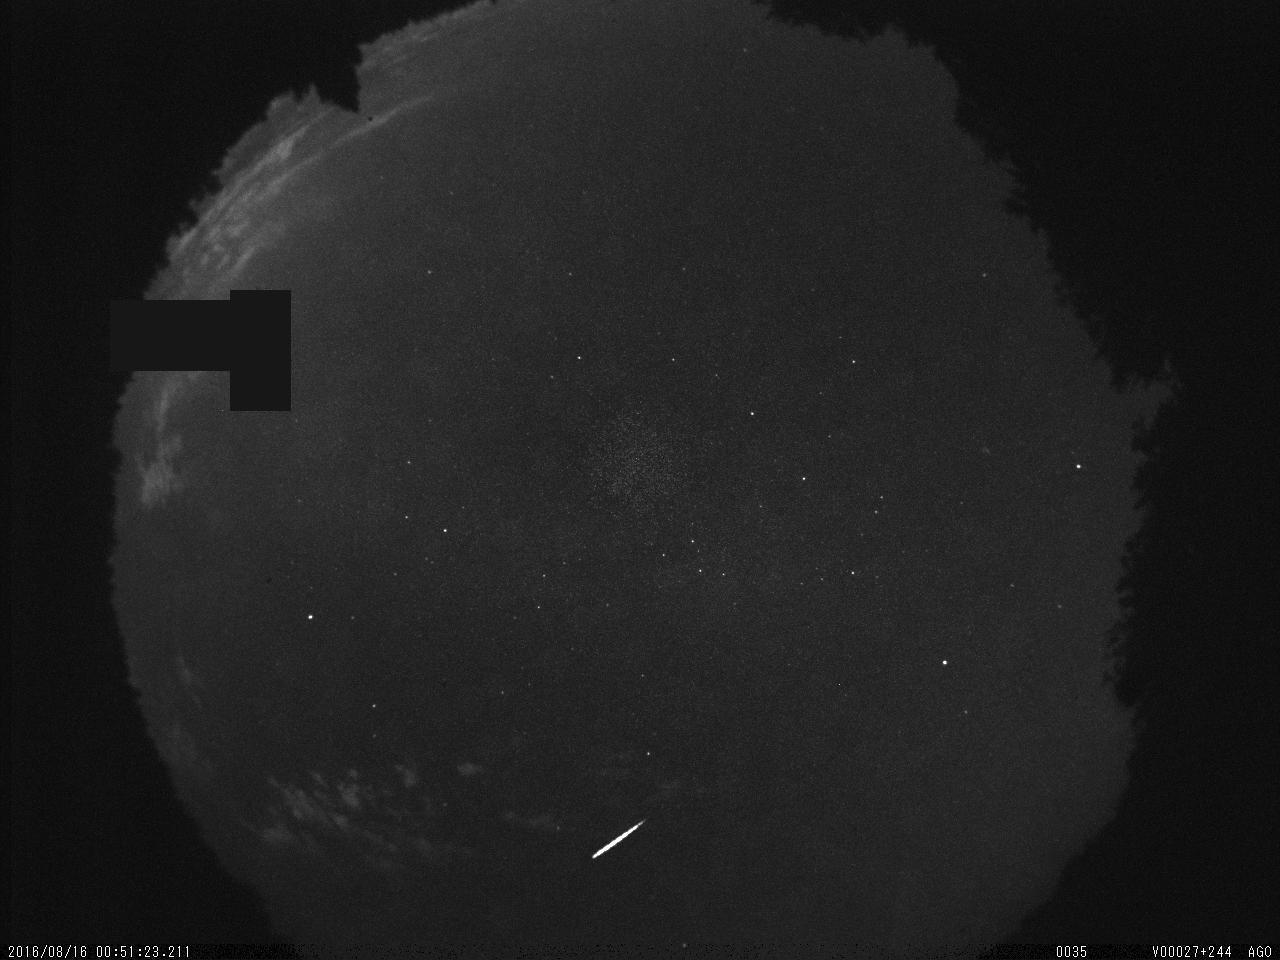meteor: (582, 811, 663, 862)
